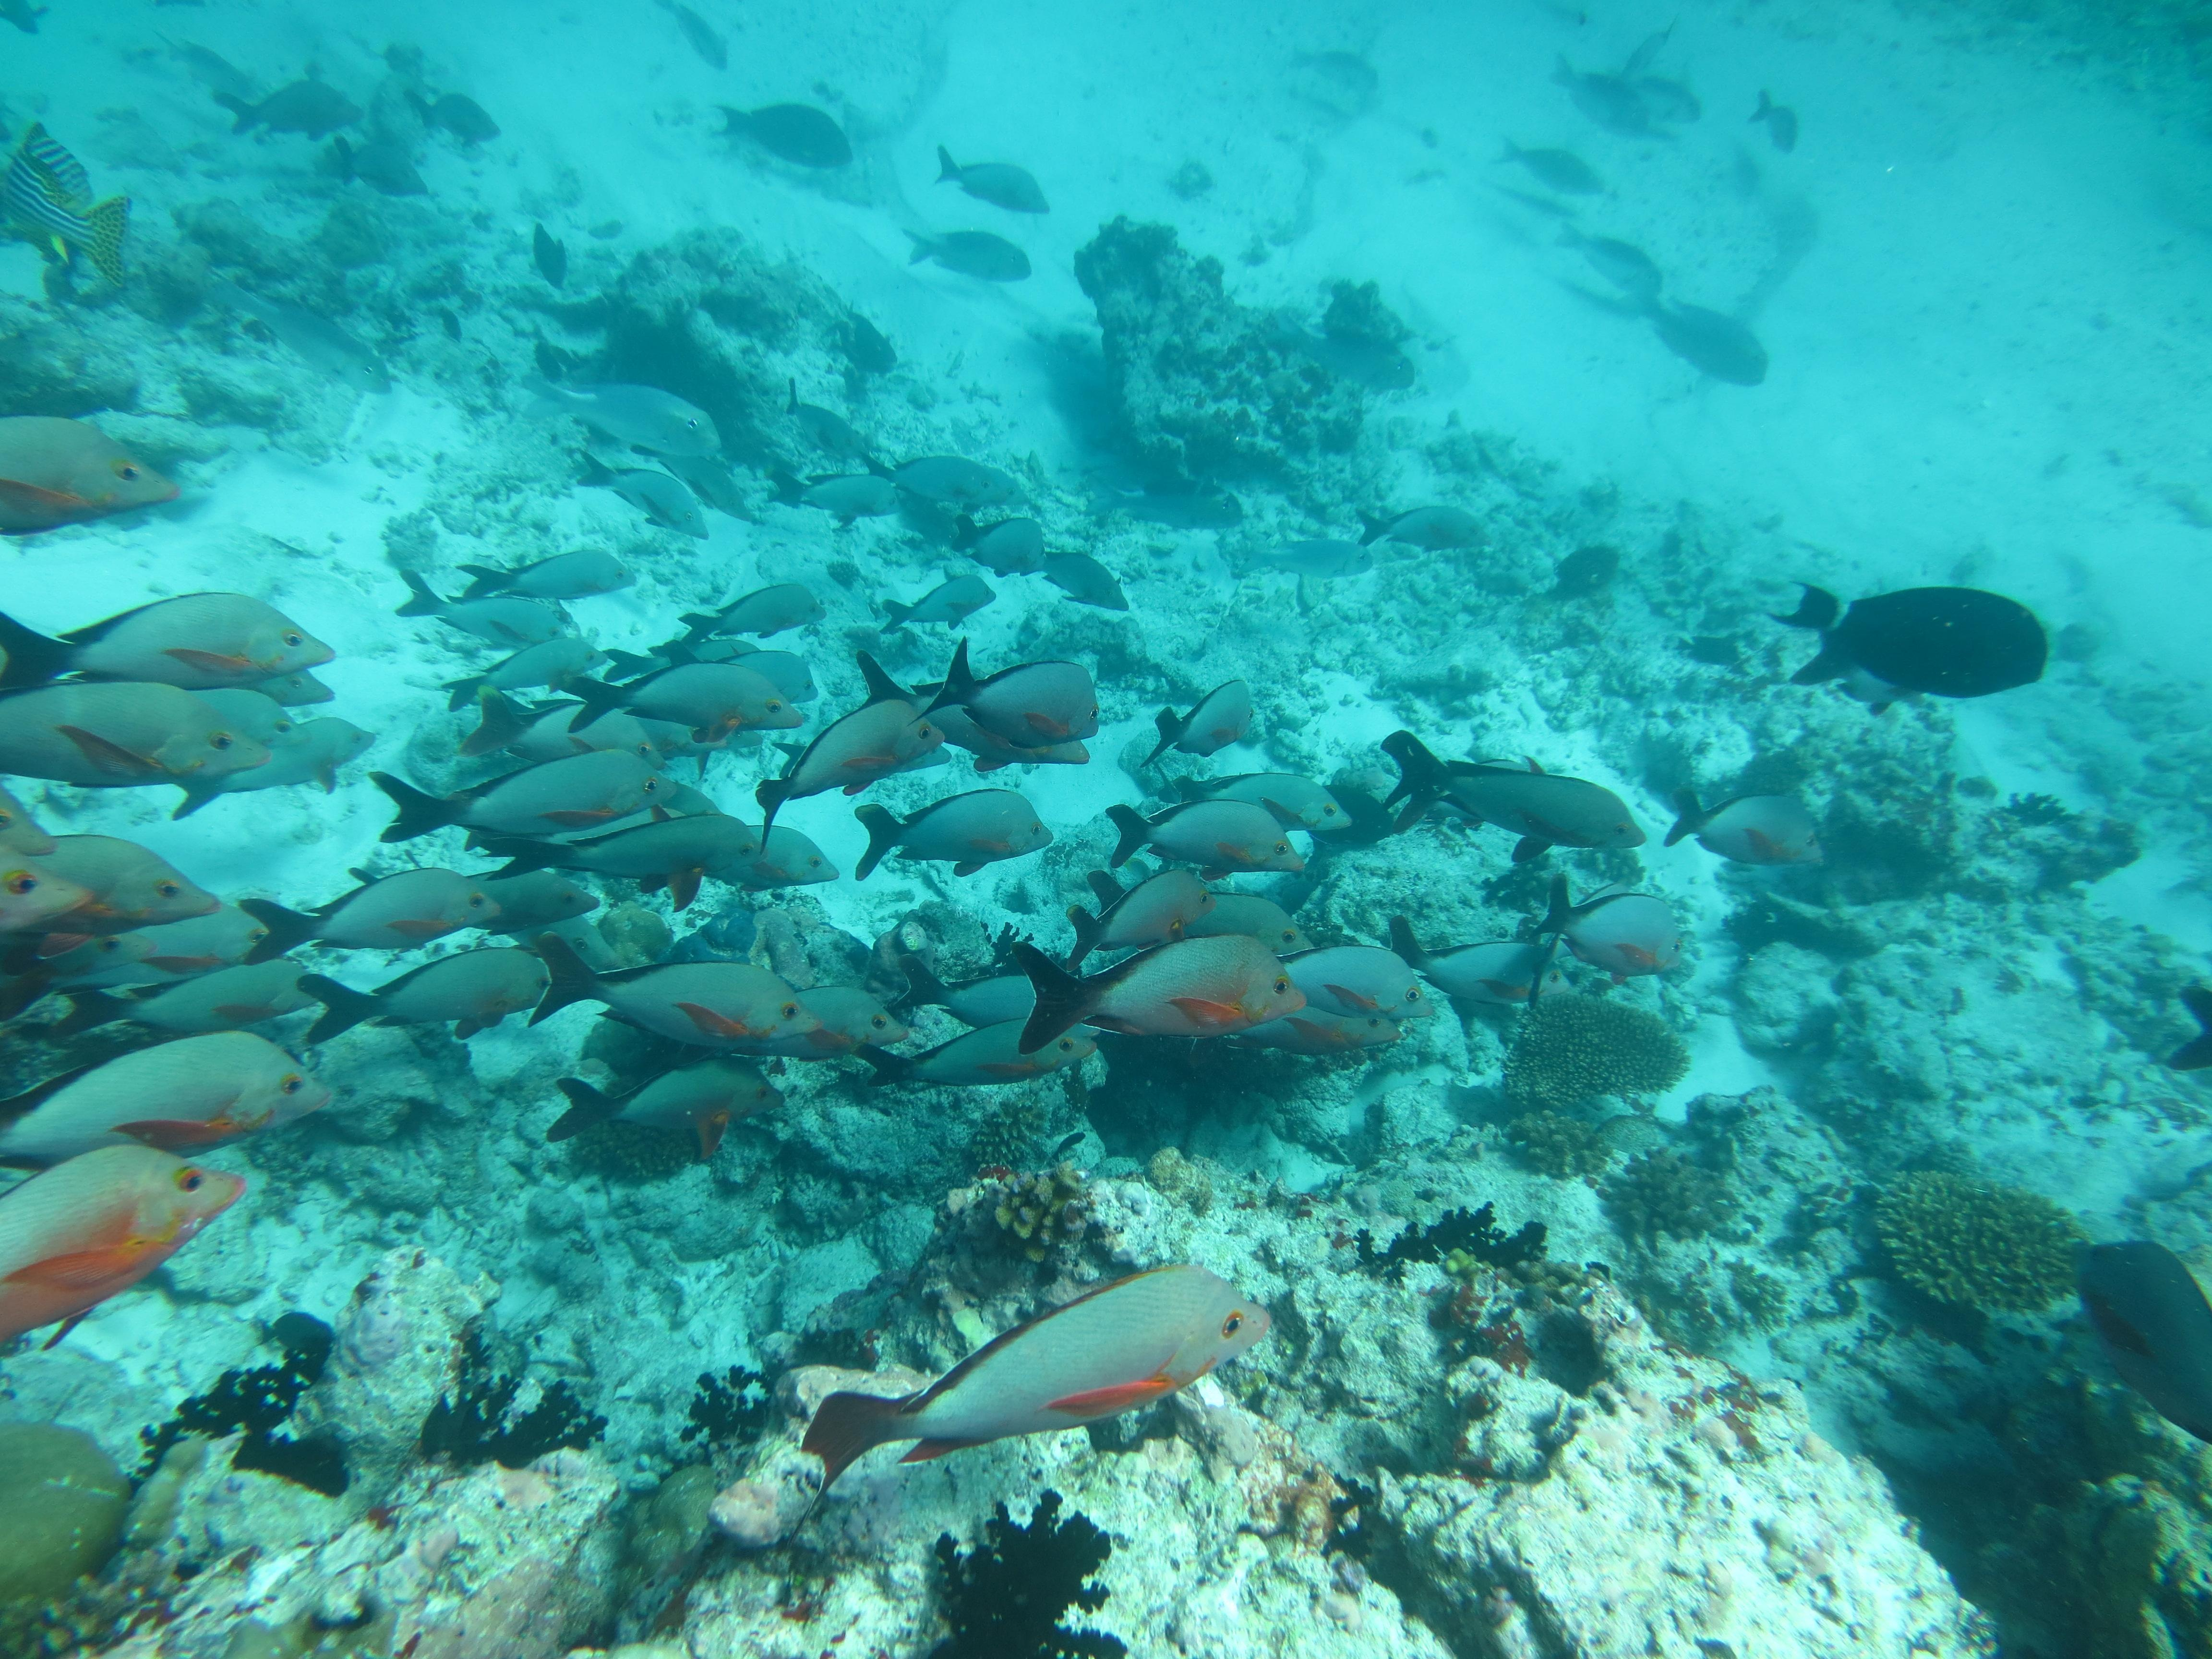Lutjanus gibbus: (772, 1241, 1305, 1507)
